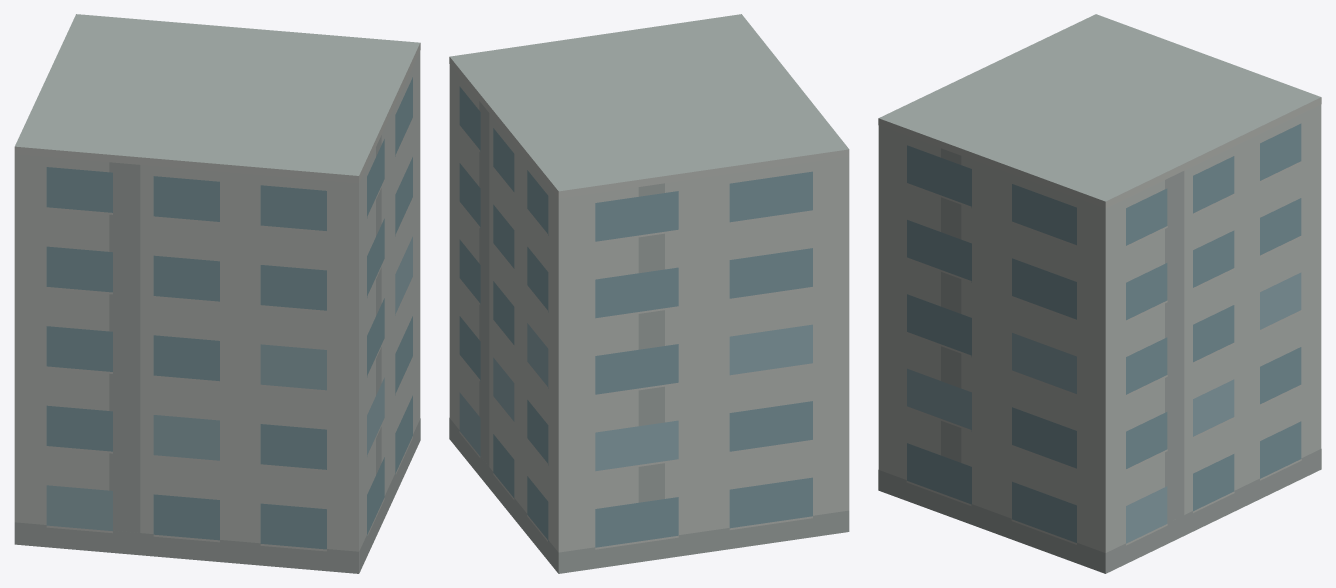
The model's file is survey-upis-32539883.glb.
3 views of the same model, side by side, from view 1: azimuth 30°, elevation 25°; view 2: azimuth 150°, elevation 25°; view 3: azimuth 270°, elevation 25° (orthographic). The views are drawn at different scales.
Visible parts, largest first — view 1: survey-upis-32539883.tmp; view 2: survey-upis-32539883.tmp; view 3: survey-upis-32539883.tmp.
Part boxes in pixels (box(x1,y1,x2,y2)): survey-upis-32539883.tmp: box(14, 14, 420, 573); survey-upis-32539883.tmp: box(449, 14, 849, 573); survey-upis-32539883.tmp: box(878, 14, 1321, 573).
Size of the model in its own units: 13.84 by 12.8 by 13.81.
